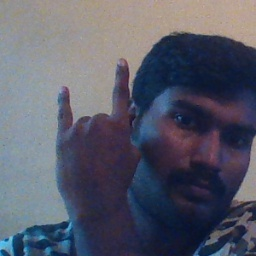V: (52, 53, 145, 205)
